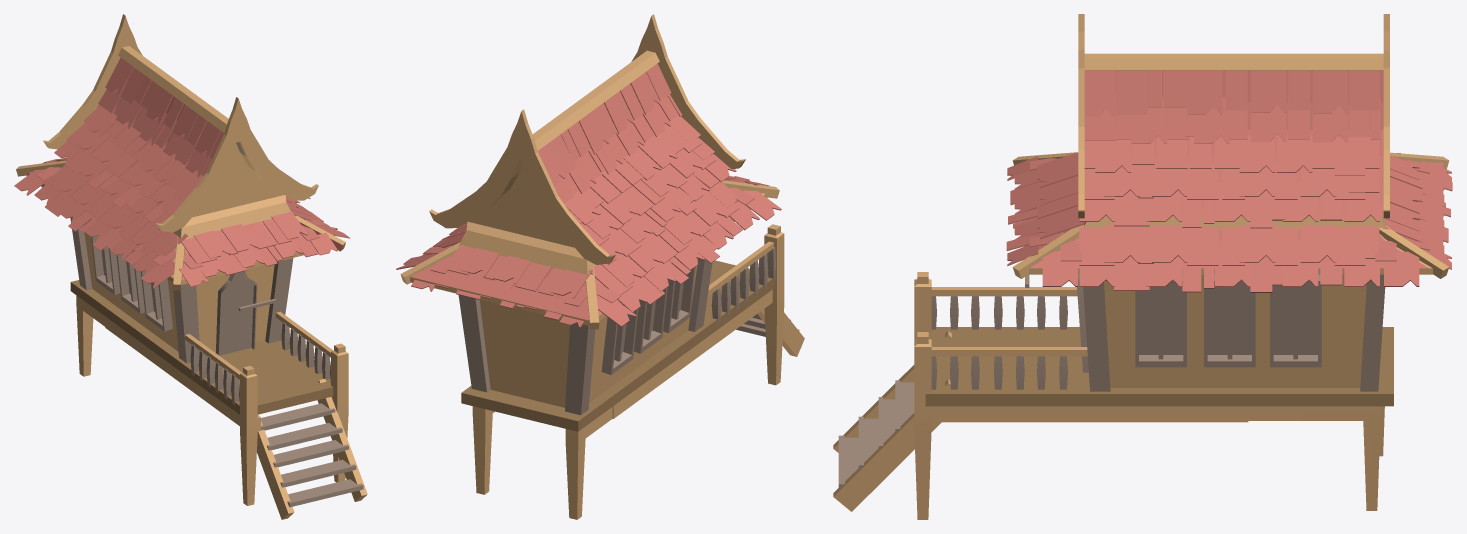
Rendered from house1.fbx.
3 views of the same model, side by side, from view 1: azimuth 30°, elevation 25°; view 2: azimuth 150°, elevation 25°; view 3: azimuth 270°, elevation 25° (orthographic). The views are drawn at different scales.
Visible parts, largest first — view 1: polySurface647, pCube127, polySurface237, polySurface702, polySurface693, polySurface657, polySurface248, polySurface691, polySurface619, polySurface232, polySurface636, polySurface618 (+31 smaller); view 2: polySurface647, pCube127, polySurface702, polySurface693, polySurface691, polySurface692, polySurface234, polySurface236, polySurface232, polySurface449, polySurface695, polySurface445 (+35 smaller); view 3: polySurface647, pCube127, polySurface694, polySurface226, polySurface230, polySurface228, polySurface692, polySurface657, polySurface619, polySurface682, polySurface393, polySurface389 (+57 smaller).
Boxes of the visible parts, x1,y1,x2,y2 form: polySurface647: [27, 14, 318, 363]; pCube127: [70, 280, 333, 414]; polySurface237: [216, 271, 257, 355]; polySurface702: [240, 365, 257, 505]; polySurface693: [105, 317, 260, 431]; polySurface657: [331, 343, 348, 482]; polySurface248: [257, 414, 294, 519]; polySurface691: [76, 295, 105, 376]; polySurface619: [317, 379, 367, 501]; polySurface232: [140, 270, 172, 331]; polySurface636: [287, 479, 363, 507]; polySurface618: [280, 459, 356, 487]; polySurface647: [410, 14, 767, 415]; pCube127: [461, 260, 774, 431]; polySurface702: [764, 224, 784, 385]; polySurface693: [612, 290, 772, 418]; polySurface691: [565, 407, 612, 519]; polySurface692: [472, 406, 494, 494]; polySurface234: [601, 300, 639, 374]; polySurface236: [634, 279, 668, 353]; polySurface232: [663, 266, 695, 333]; polySurface449: [578, 110, 609, 154]; polySurface695: [707, 241, 773, 296]; polySurface445: [630, 72, 660, 114]; polySurface647: [1029, 14, 1443, 391]; pCube127: [925, 327, 1393, 406]; polySurface694: [931, 406, 1248, 422]; polySurface226: [1270, 274, 1321, 367]; polySurface230: [1204, 274, 1255, 367]; polySurface228: [1135, 275, 1186, 367]; polySurface692: [1248, 406, 1380, 510]; polySurface657: [914, 332, 931, 519]; polySurface619: [833, 379, 950, 511]; polySurface682: [931, 347, 1087, 356]; polySurface393: [1187, 70, 1222, 114]; polySurface389: [1312, 70, 1348, 113].
Bounding box in the file's own units: 63.77 × 108 × 127.
